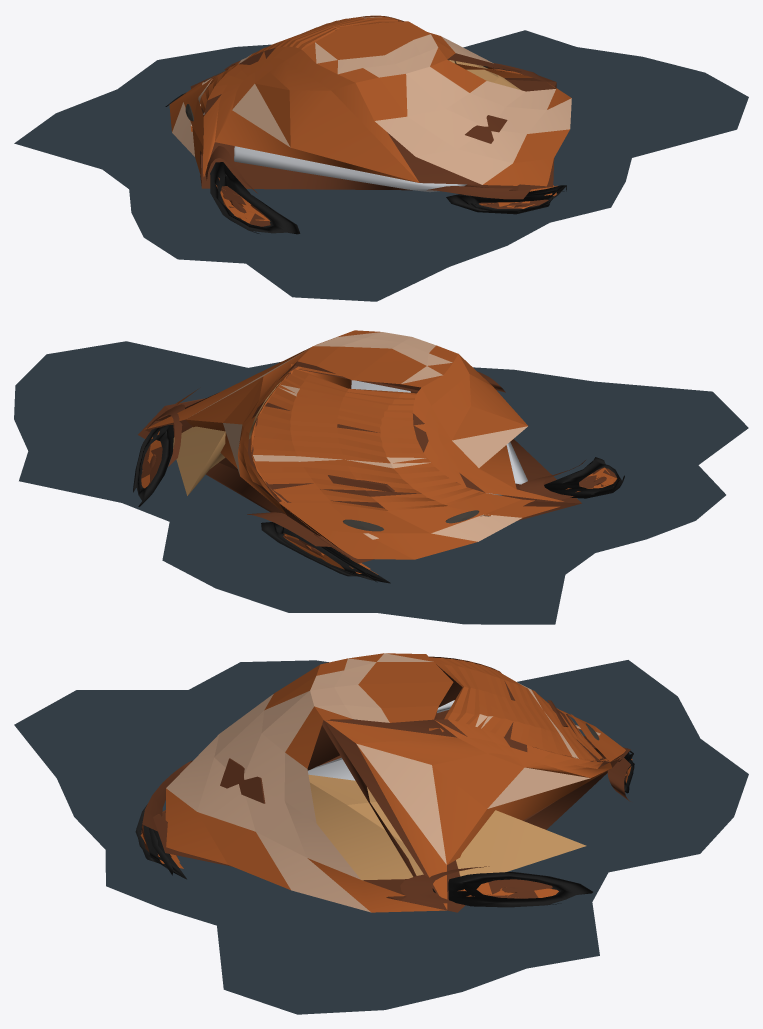
Rendered from heap-trundle.glb.
3 views of the same model, one above another, from view 1: azimuth 30°, elevation 25°; view 2: azimuth 150°, elevation 25°; view 3: azimuth 270°, elevation 25° (orthographic). The views are drawn at different scales.
Visible parts, largest first — view 1: puddle, pile; view 2: puddle, pile; view 3: puddle, pile.
Boxes of the visible parts, <box> form: puddle: <box>14,30,748,301</box>; pile: <box>165,15,571,234</box>; puddle: <box>14,341,748,624</box>; pile: <box>133,330,624,583</box>; puddle: <box>14,660,748,1014</box>; pile: <box>135,653,634,912</box>.
Size of the model in its own units: 1.46 by 0.2532 by 1.28.
